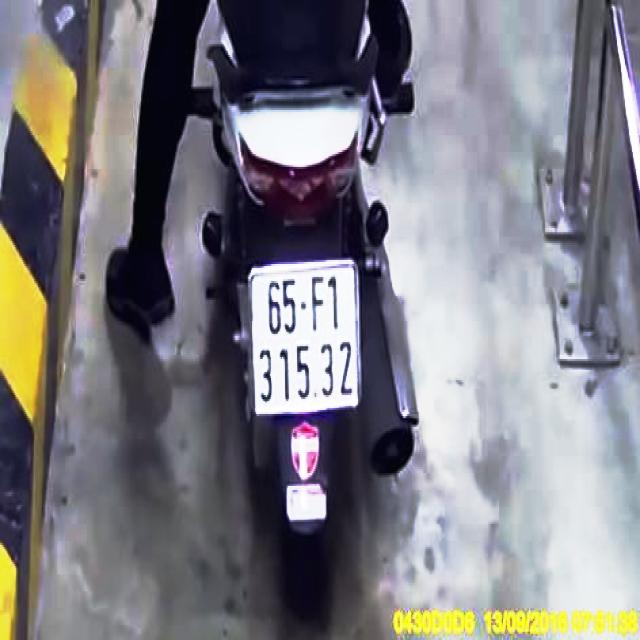license_plate: (251, 262, 361, 418)
